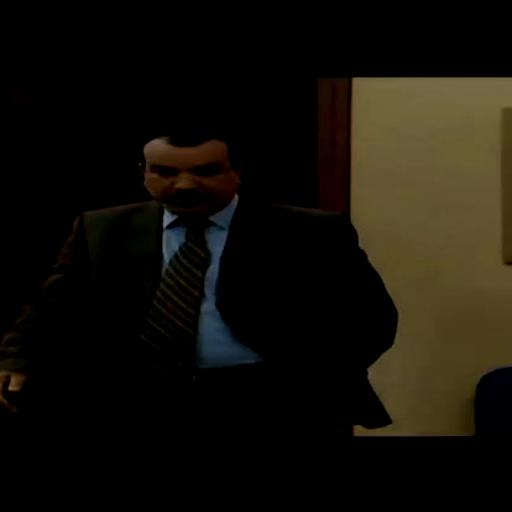slimane: (139, 129, 246, 216)
